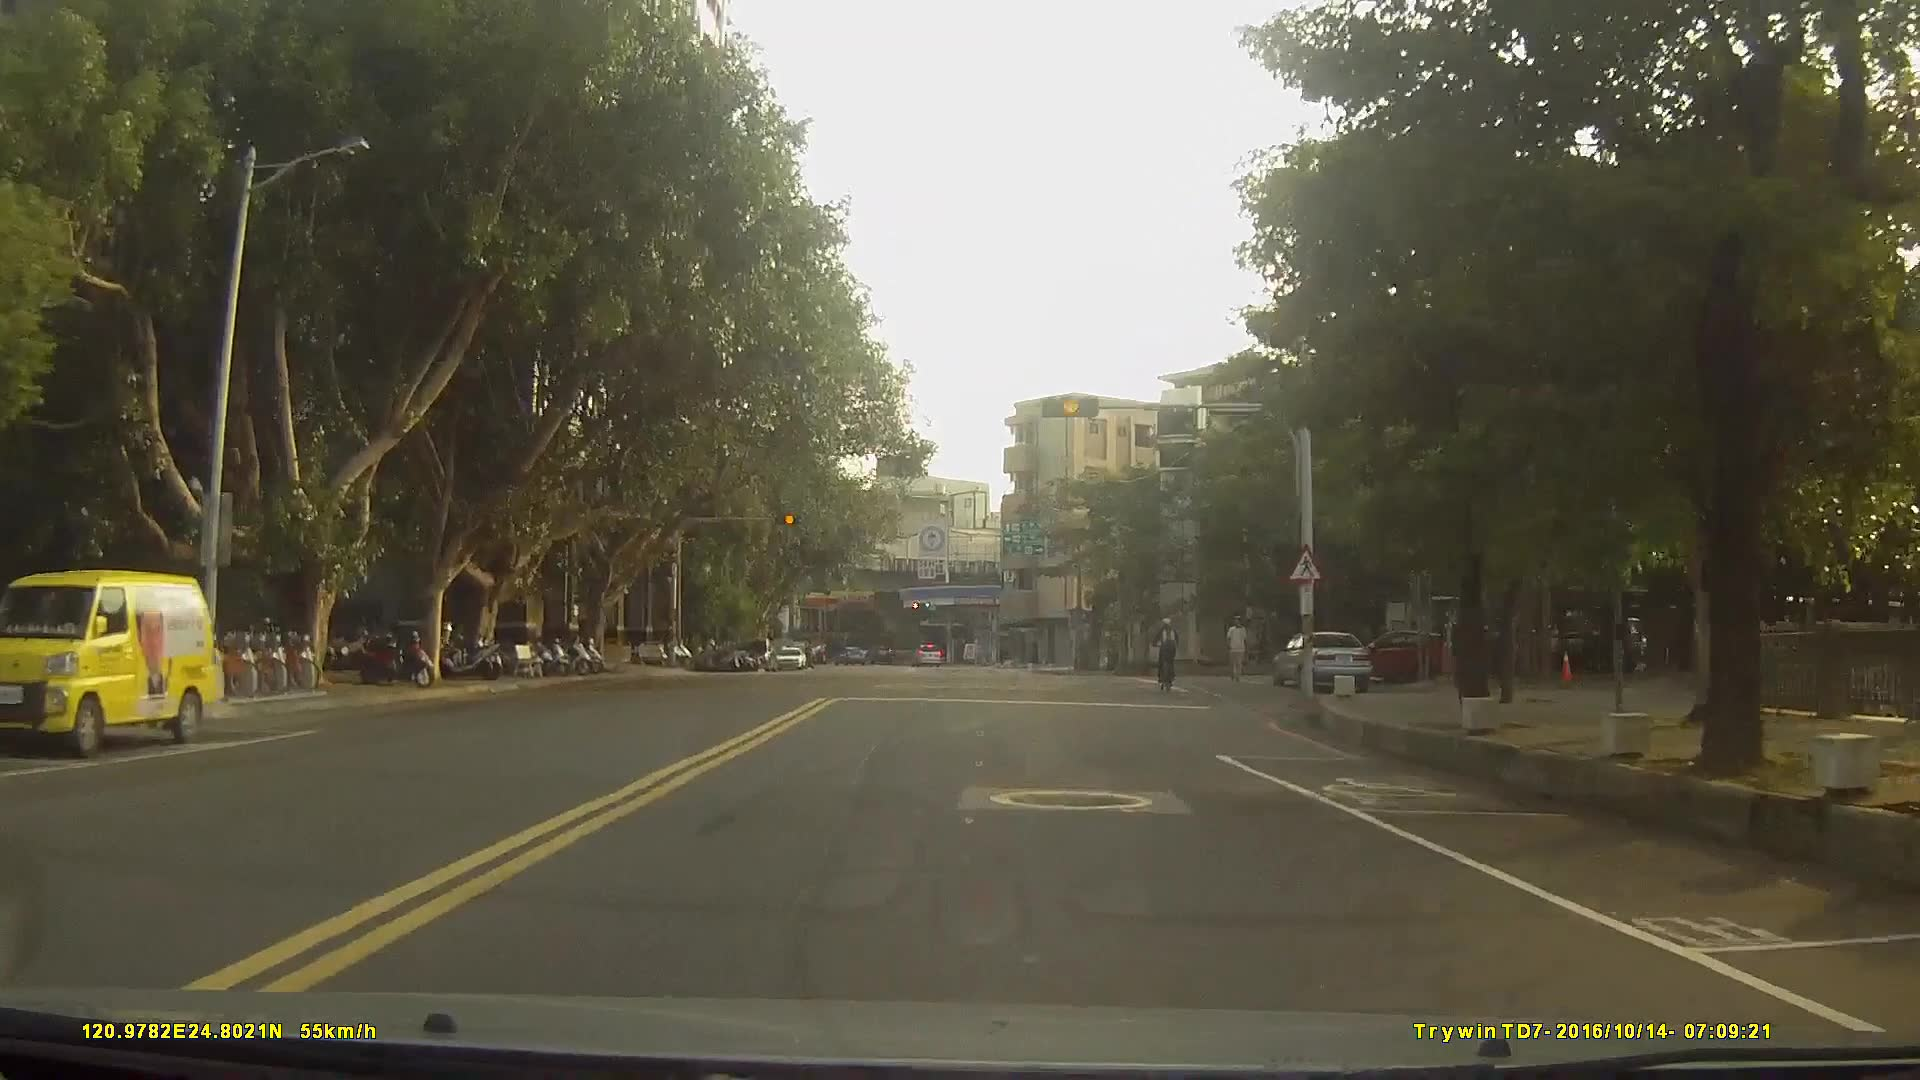pedestrian: (1224, 612, 1254, 686)
rider: (1156, 616, 1186, 692)
vehicle: (1269, 632, 1371, 694), (1344, 625, 1444, 685), (908, 641, 941, 665), (774, 645, 806, 669)
